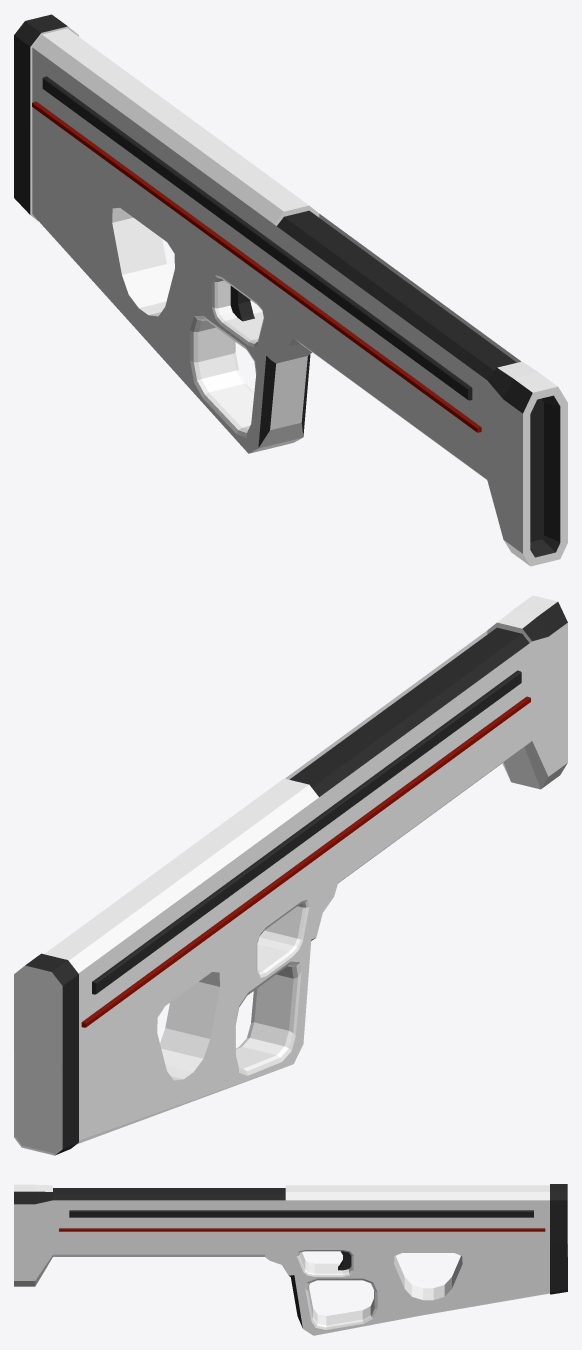
Rendered from Block Pistol Enemies.fbx.
3 views of the same model, one above another, from view 1: azimuth 30°, elevation 25°; view 2: azimuth 150°, elevation 25°; view 3: azimuth 270°, elevation 25° (orthographic). The views are drawn at different scales.
Parts seen in each view (by area): view 1: Pistol; view 2: Pistol; view 3: Pistol.
Boxes of the visible parts, x1=… form: Pistol: x1=14, y1=14, x2=567, y2=566; Pistol: x1=14, y1=595, x2=567, y2=1155; Pistol: x1=14, y1=1184, x2=567, y2=1335.
Bounding box in the file's own units: 95.48 × 442 × 1561.
